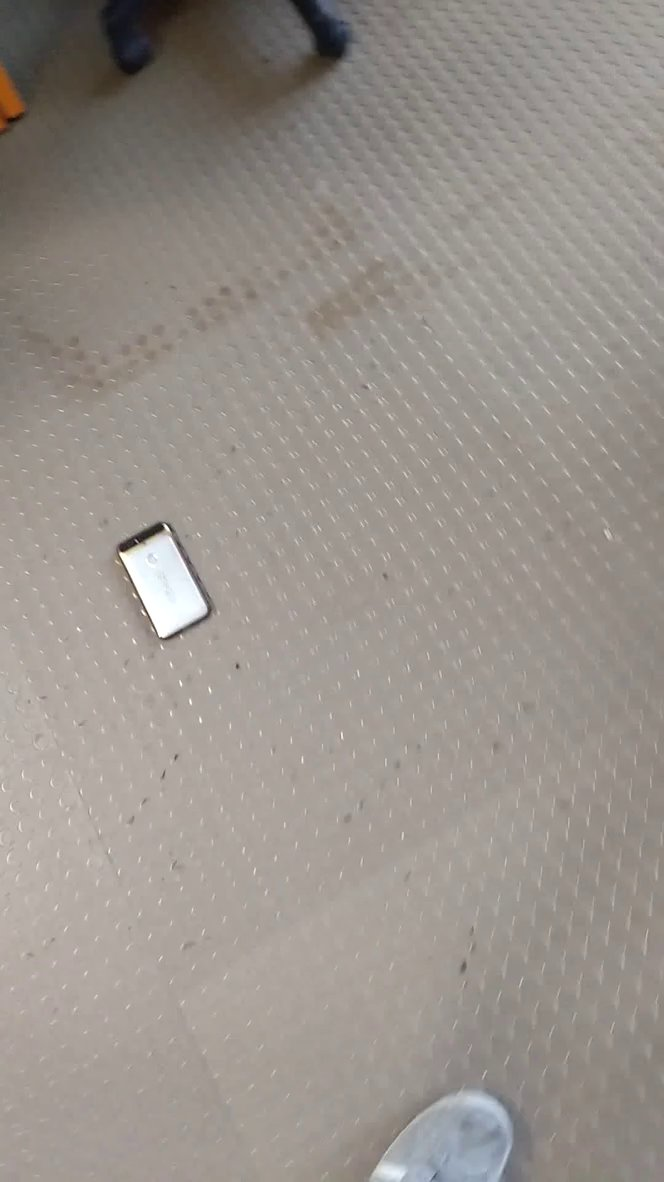phone: (109, 508, 230, 647)
